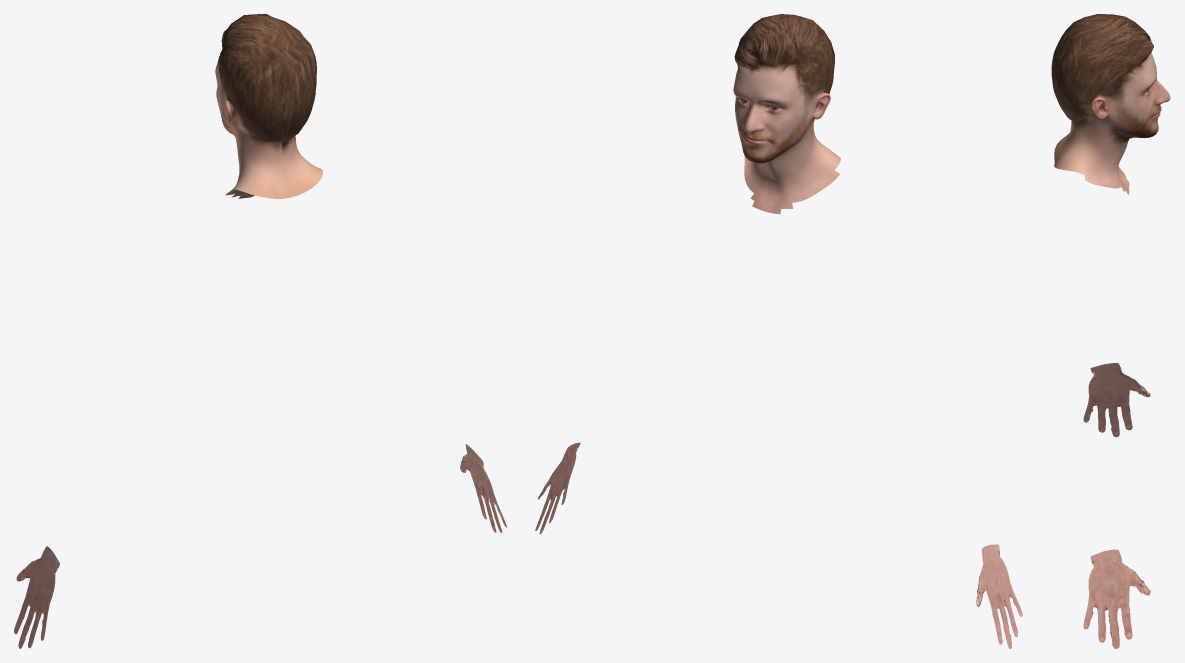
Rendered from rider-anatomy.glb.
3 renders of one model, left to right at view 1: azimuth 30°, elevation 25°; view 2: azimuth 150°, elevation 25°; view 3: azimuth 270°, elevation 25°, orthographic. The views are drawn at different scales.
Visible parts, largest first — view 1: AvatarHead, FlightHands; view 2: AvatarHead, FlightHands; view 3: AvatarHead, FlightHands.
Boxes of the visible parts, bbox=[...] form: AvatarHead: bbox=[215, 14, 322, 198]; FlightHands: bbox=[14, 444, 506, 648]; AvatarHead: bbox=[733, 14, 840, 214]; FlightHands: bbox=[535, 442, 1022, 648]; AvatarHead: bbox=[1051, 14, 1170, 194]; FlightHands: bbox=[1083, 363, 1150, 648].
Size of the model in its own units: 1.09 by 1.26 by 0.2593.
Materials: 4 (4 with a texture image).
